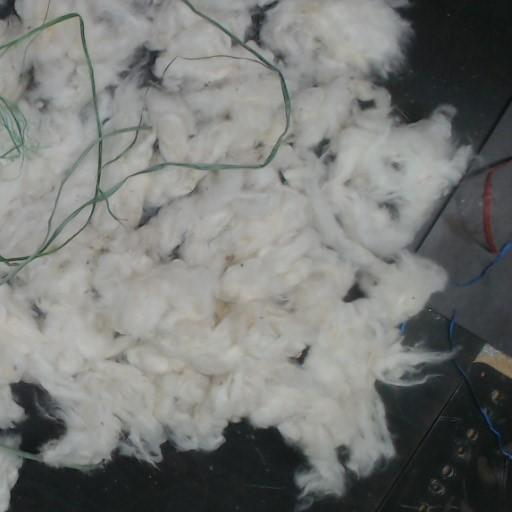conveyor belt: (310, 252, 511, 511), (10, 423, 302, 510), (390, 0, 511, 159), (417, 175, 490, 281), (16, 384, 62, 450), (492, 165, 511, 245)
cotton: (0, 0, 473, 511)
thread: (0, 0, 290, 285), (460, 156, 511, 286), (453, 360, 511, 461), (0, 94, 26, 162), (0, 432, 41, 460), (447, 310, 455, 351)
